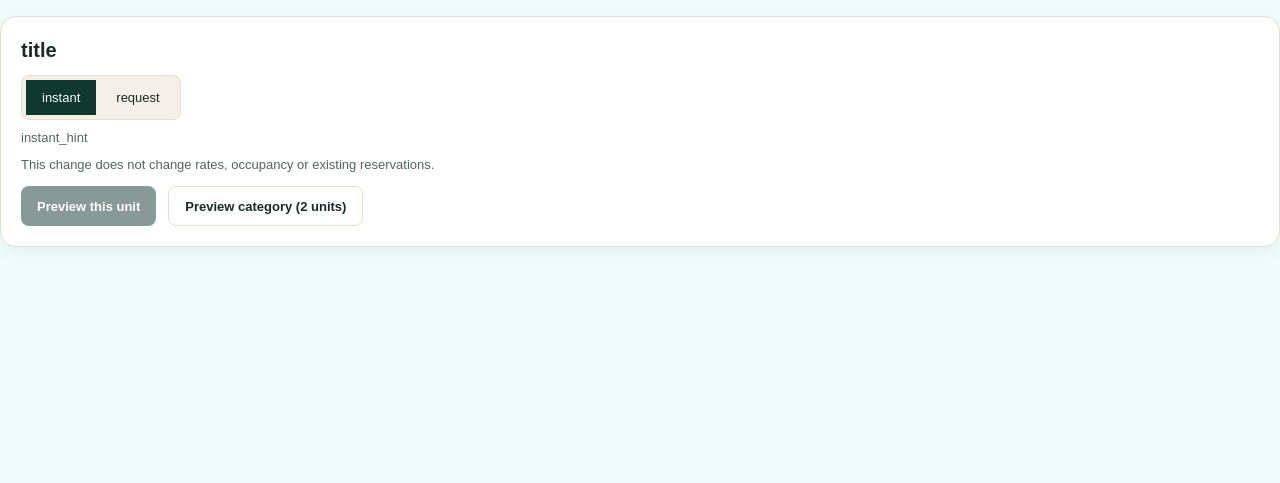
Test: reviewed per-unit booking mode › retains the same request ID on an uncertain apply retry
The image size is (1280, 483).
Step 1. Click the radio button labelled "request" → (138, 98), box [100, 80, 176, 115]
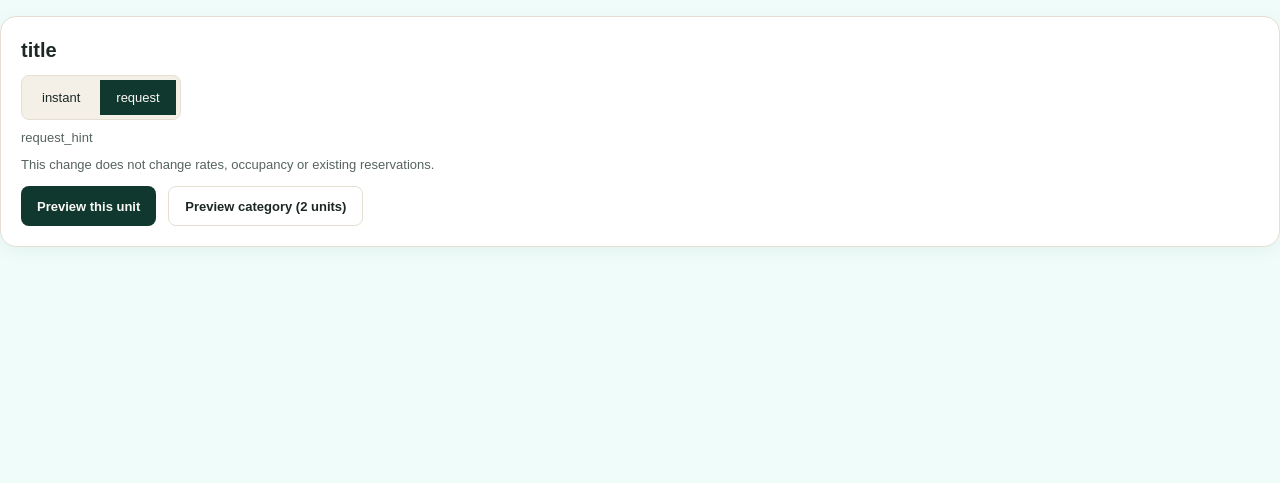
Step 2. Click the button "Preview this unit" → (89, 206), box [21, 186, 156, 226]
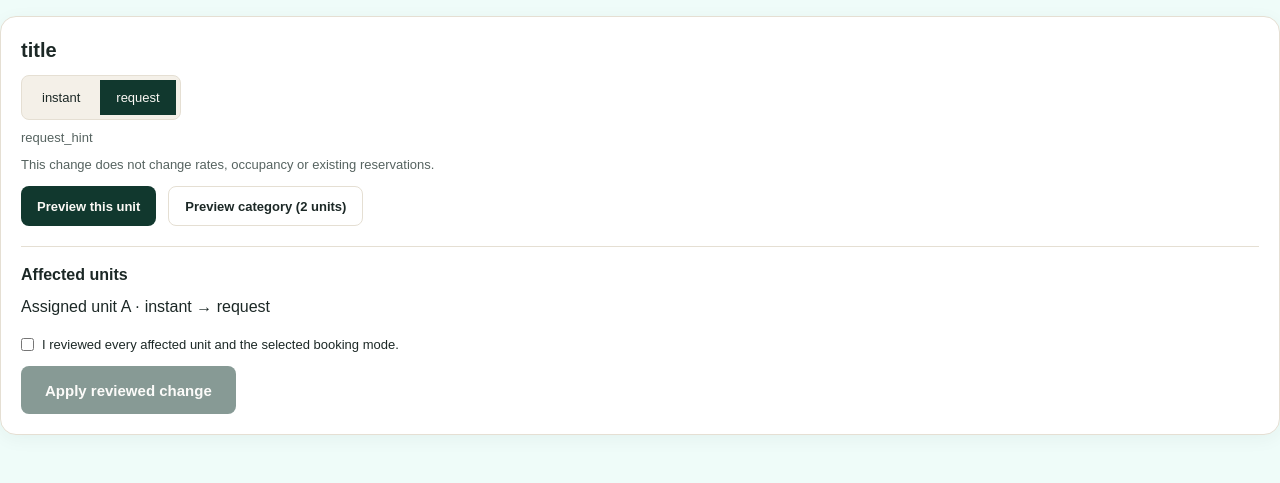
Step 3. Click the checkbox → (28, 344), box [21, 335, 34, 354]
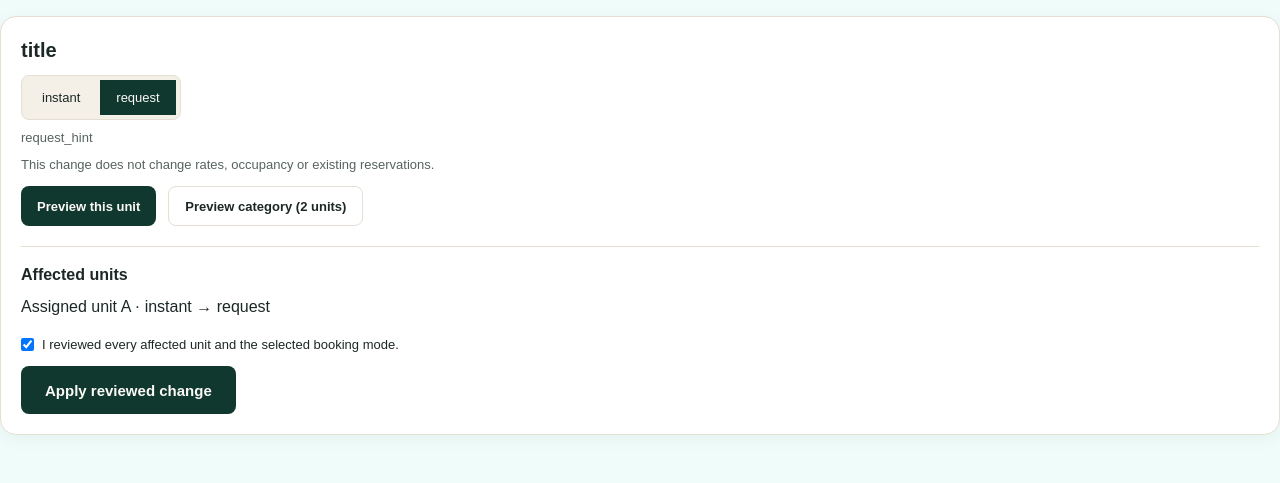
Step 4. Click the button "Apply reviewed change" → (128, 390), box [21, 366, 236, 414]
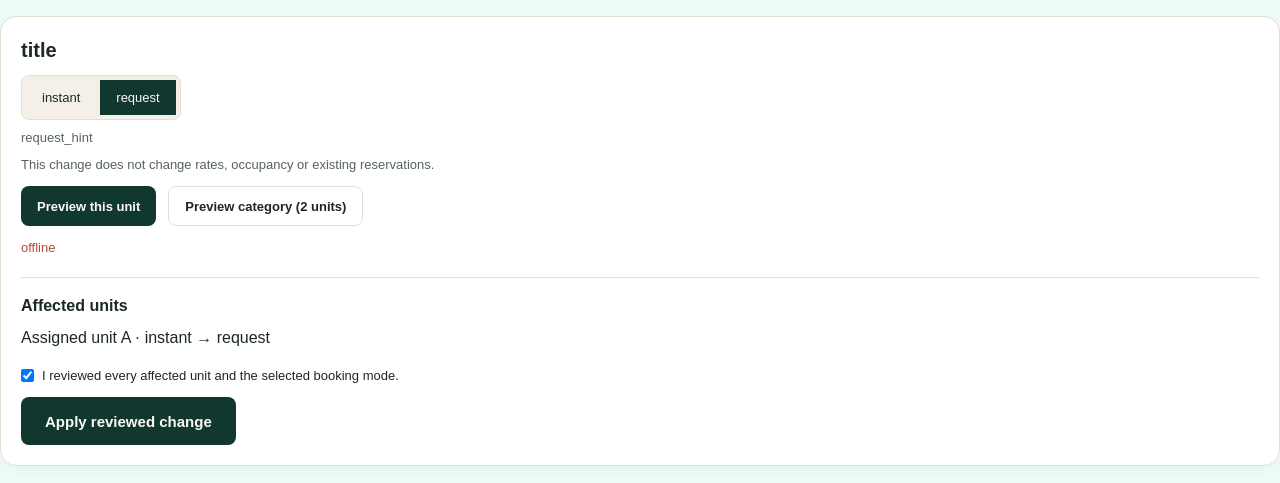
Now the message reads "offline", box [21, 240, 56, 255]
Step 5. Click the button "Apply reviewed change" → (128, 421), box [21, 397, 236, 445]
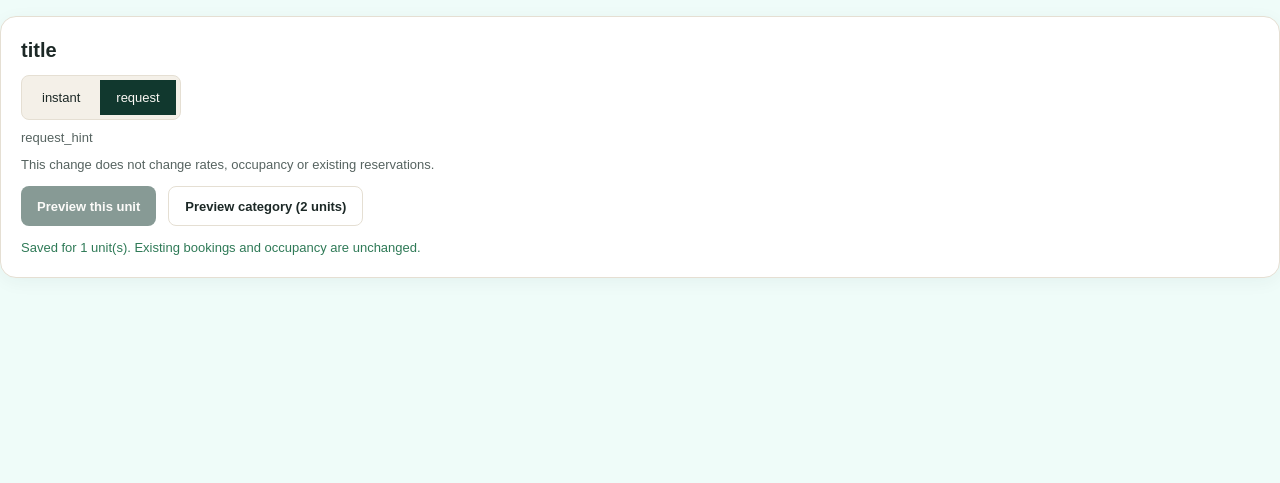
Now the text "Saved for 1 unit(s). Existing bookings and occupancy are unchanged." is shown, box [21, 240, 421, 255]
